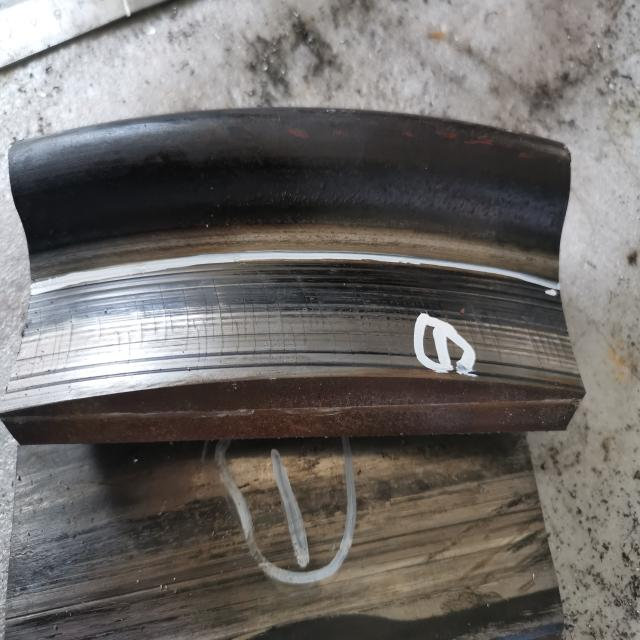Brake_Thermal_Cracks: (532, 303, 562, 369), (540, 302, 568, 361), (480, 296, 502, 363), (520, 305, 543, 367), (384, 281, 403, 355), (376, 286, 395, 358), (527, 305, 550, 363), (349, 278, 368, 348), (466, 293, 486, 346), (215, 281, 226, 359), (274, 290, 287, 354), (402, 290, 414, 357), (298, 277, 313, 329), (263, 283, 273, 356), (295, 293, 308, 349), (64, 309, 75, 373), (357, 283, 371, 327), (31, 311, 40, 378), (57, 310, 66, 375), (344, 324, 357, 365), (159, 285, 168, 344), (183, 286, 191, 352), (50, 312, 58, 374), (250, 287, 257, 357), (240, 285, 248, 345), (433, 292, 449, 321), (315, 291, 327, 328), (193, 321, 202, 369), (487, 304, 503, 331), (328, 320, 337, 364), (504, 317, 518, 339), (408, 294, 420, 319), (310, 295, 319, 328), (290, 323, 298, 358), (203, 285, 210, 323), (151, 298, 157, 337), (211, 303, 216, 344), (127, 332, 133, 365), (235, 320, 241, 352), (143, 301, 148, 338), (140, 318, 145, 354), (206, 324, 210, 368), (230, 303, 235, 337), (419, 297, 428, 314), (135, 302, 140, 332), (98, 313, 103, 341), (117, 330, 122, 354), (170, 312, 175, 334), (40, 360, 45, 379), (16, 369, 20, 382)
